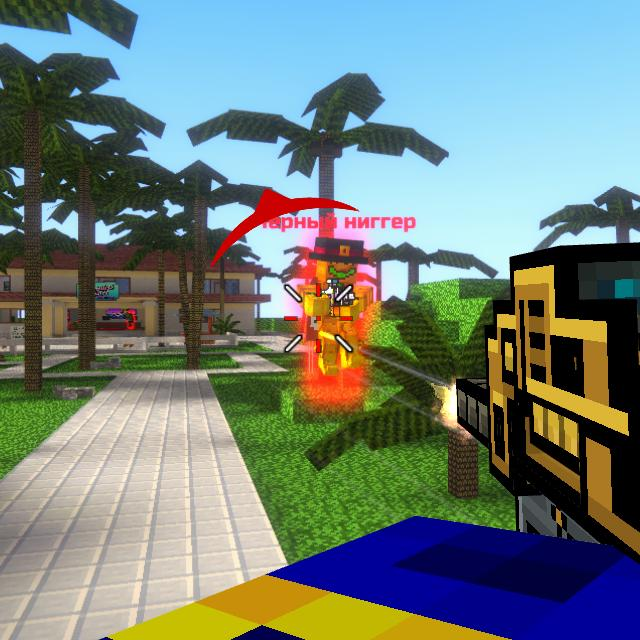Enemy: (303, 246, 376, 377), (126, 310, 137, 328)
